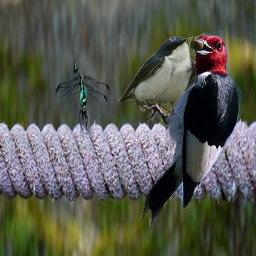Swallow: (117, 36, 199, 118)
Woodpecker: (134, 22, 242, 232)
